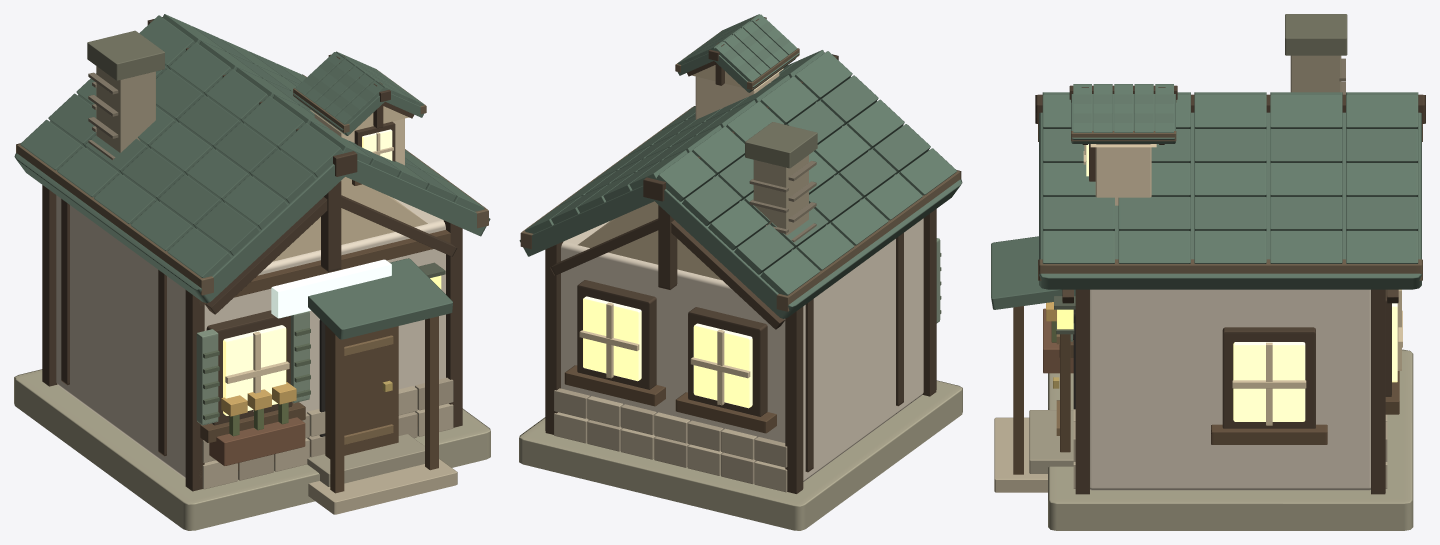
Rendered from workshop-0-1.glb.
3 views of the same model, side by side, from view 1: azimuth 30°, elevation 25°; view 2: azimuth 150°, elevation 25°; view 3: azimuth 270°, elevation 25° (orthographic). The views are drawn at different scales.
Parts seen in each view (by area): view 1: workshop-1-0, door-hinge; view 2: workshop-1-0; view 3: workshop-1-0, door-hinge.
Boxes of the visible parts, x1,y1,x2,y2 form: workshop-1-0: [14, 14, 490, 530]; door-hinge: [325, 325, 398, 458]; workshop-1-0: [519, 14, 962, 530]; workshop-1-0: [991, 14, 1425, 530]; door-hinge: [1053, 310, 1070, 452].
Size of the model in its own units: 1.88 by 2.26 by 2.24.
